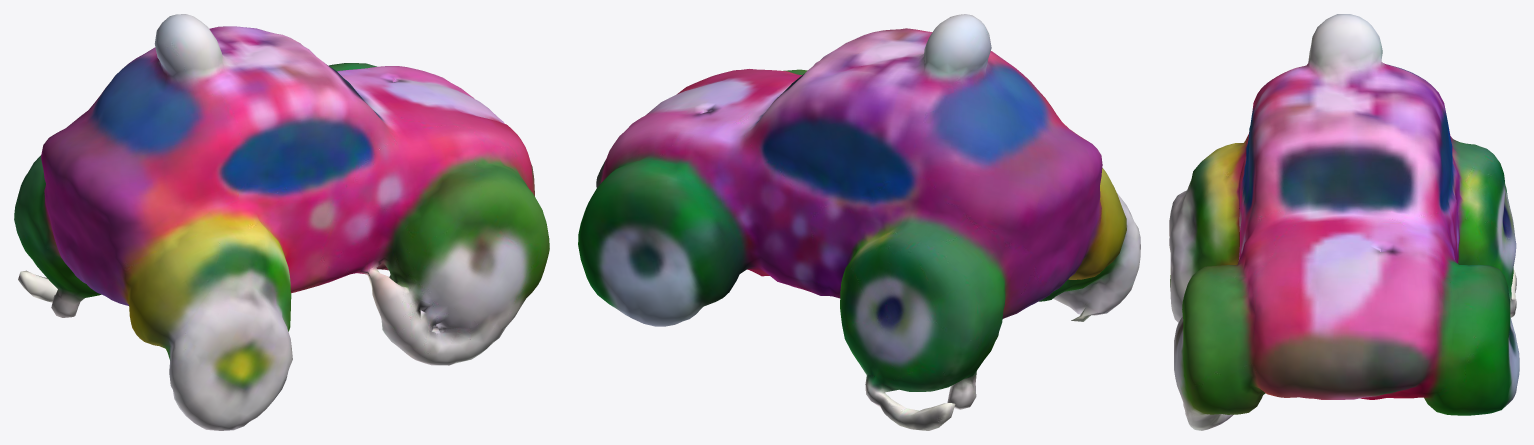
The model's file is kids_toy_0426200446_preview.fbx.
3 renders of one model, left to right at view 1: azimuth 30°, elevation 25°; view 2: azimuth 150°, elevation 25°; view 3: azimuth 270°, elevation 25°, orthographic. The views are drawn at different scales.
Parts seen in each view (by area): view 1: Mesh1; view 2: Mesh1; view 3: Mesh1.
Part boxes in pixels (x1,y1,x2,y2): Mesh1: (14,14,549,430); Mesh1: (578,14,1140,430); Mesh1: (1169,14,1519,430).
Size of the model in its own units: 120 by 88.28 by 86.75.
Materials: 1 (1 with a texture image).
